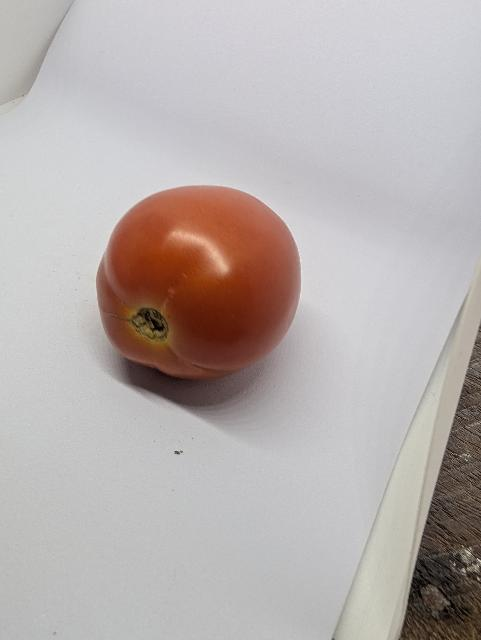red: (92, 180, 313, 389)
